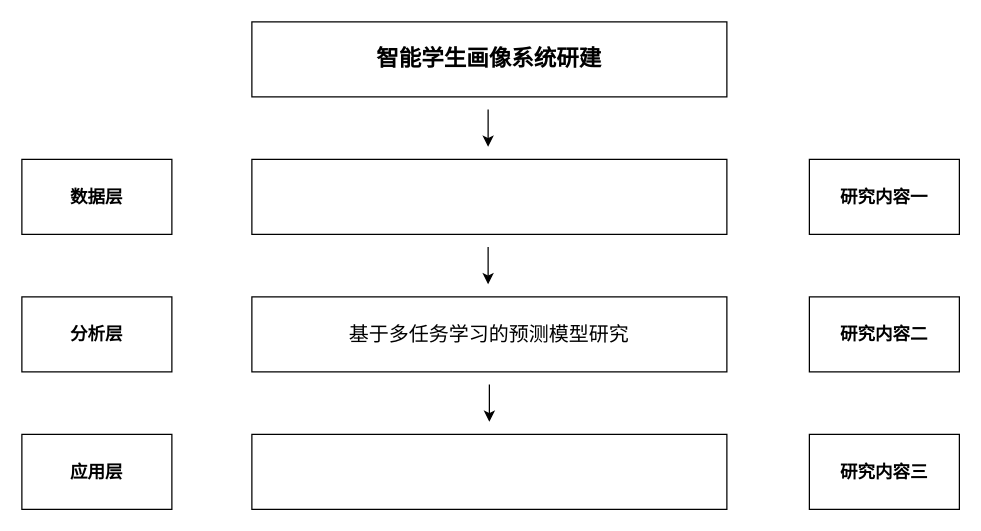
Image size: 981x531. Some labels were removed from this diagram. Here are the shapes that lost their labels. From the top down, the box of each, then its label:
(251, 158, 727, 234): 海量异构数据的同名消歧技术研究
(251, 433, 727, 509): 智能学生画像系统设计与实现
